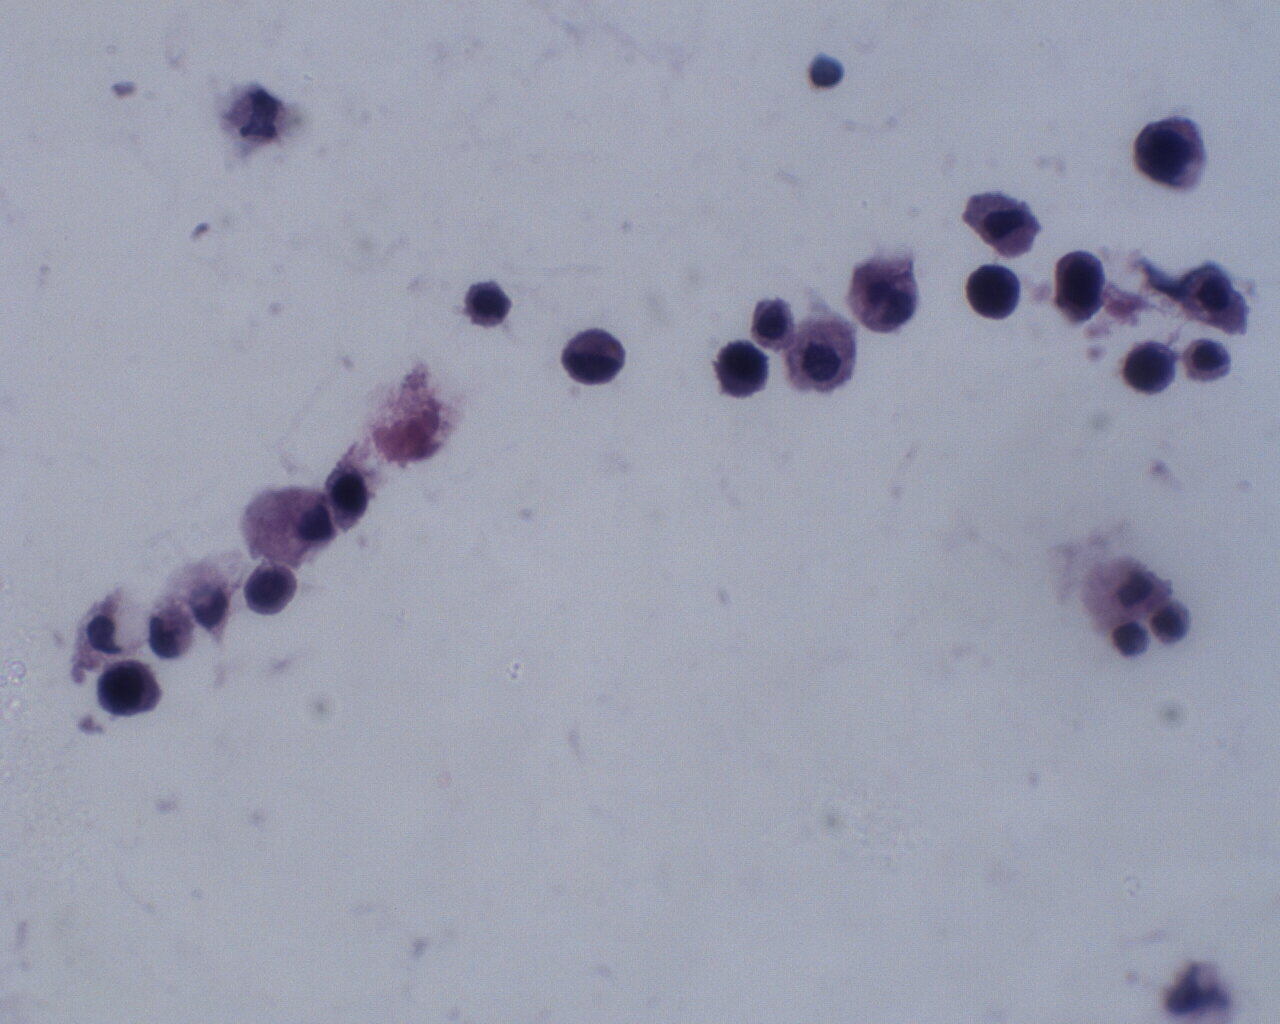ab: (1128, 111, 1207, 192), (93, 658, 167, 720), (1052, 249, 1108, 326), (559, 323, 625, 387), (709, 338, 772, 399), (964, 262, 1022, 321), (243, 561, 300, 618), (1123, 339, 1179, 395), (461, 279, 516, 333)
meso: (786, 313, 858, 393)
